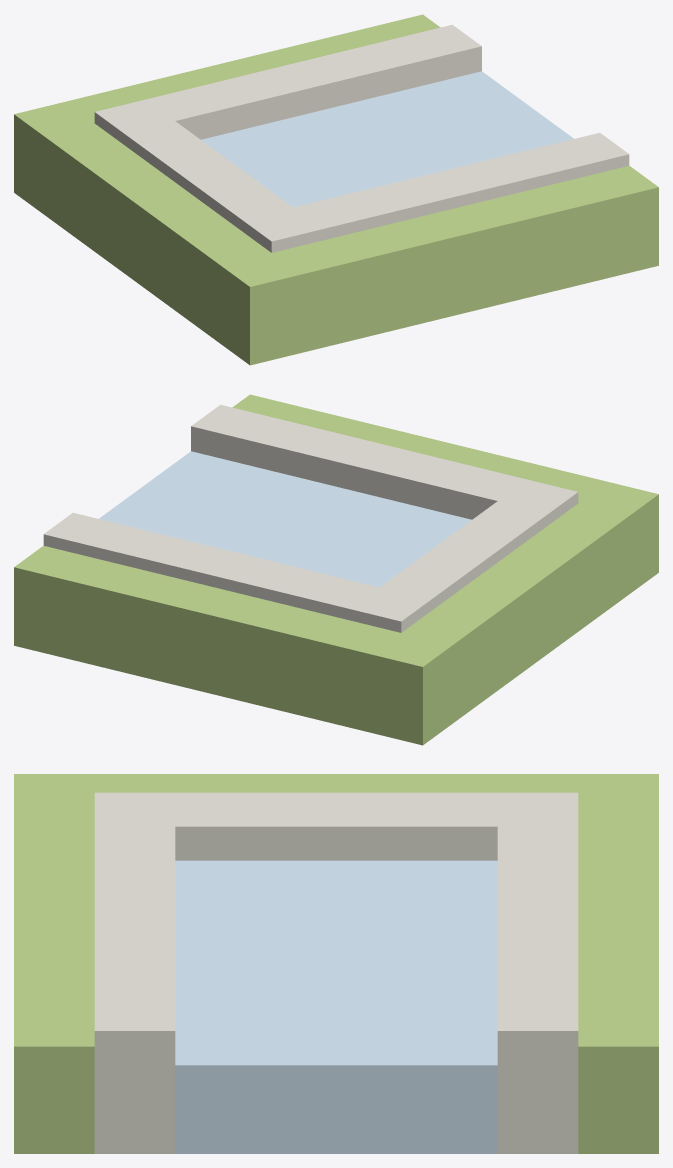
File: roadTile_264.gltf
3 renders of one model, top to bottom at view 1: azimuth 30°, elevation 25°; view 2: azimuth 150°, elevation 25°; view 3: azimuth 270°, elevation 25°, orthographic. The views are drawn at different scales.
Visible parts, largest first — view 1: roadTile_264; view 2: roadTile_264; view 3: roadTile_264.
Part boxes in pixels (left/top/right/bottom): roadTile_264: left=14, top=14, right=658, bottom=365; roadTile_264: left=14, top=394, right=658, bottom=745; roadTile_264: left=14, top=774, right=658, bottom=1153.
Size of the model in its own units: 3 by 0.63 by 3.
